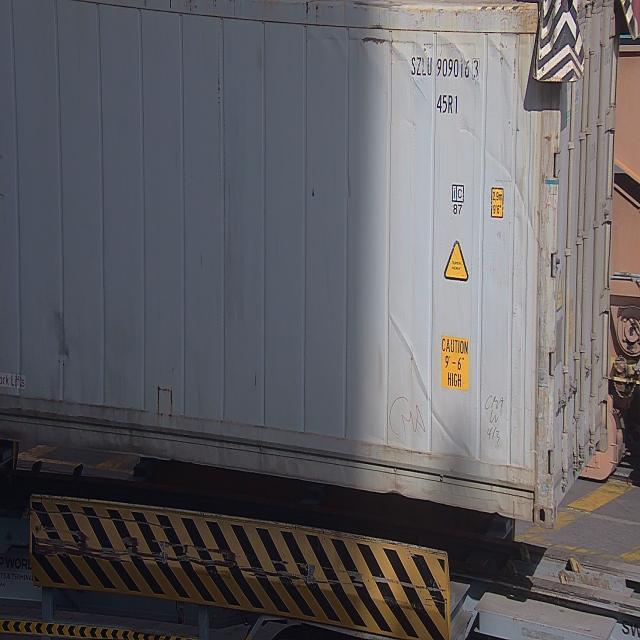Rust: (344, 21, 416, 60)
